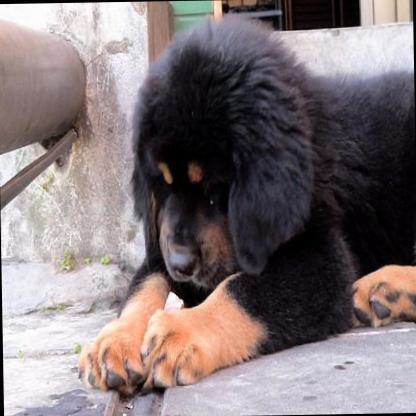Tibetan_mastiff: (70, 4, 416, 398)
